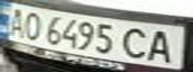4: (57, 16, 81, 50)
5: (93, 20, 121, 56)
6: (39, 13, 66, 46)
9: (75, 19, 96, 52)
A: (142, 27, 184, 64), (0, 4, 30, 36)
C: (118, 26, 154, 60)
O: (18, 9, 45, 40)
